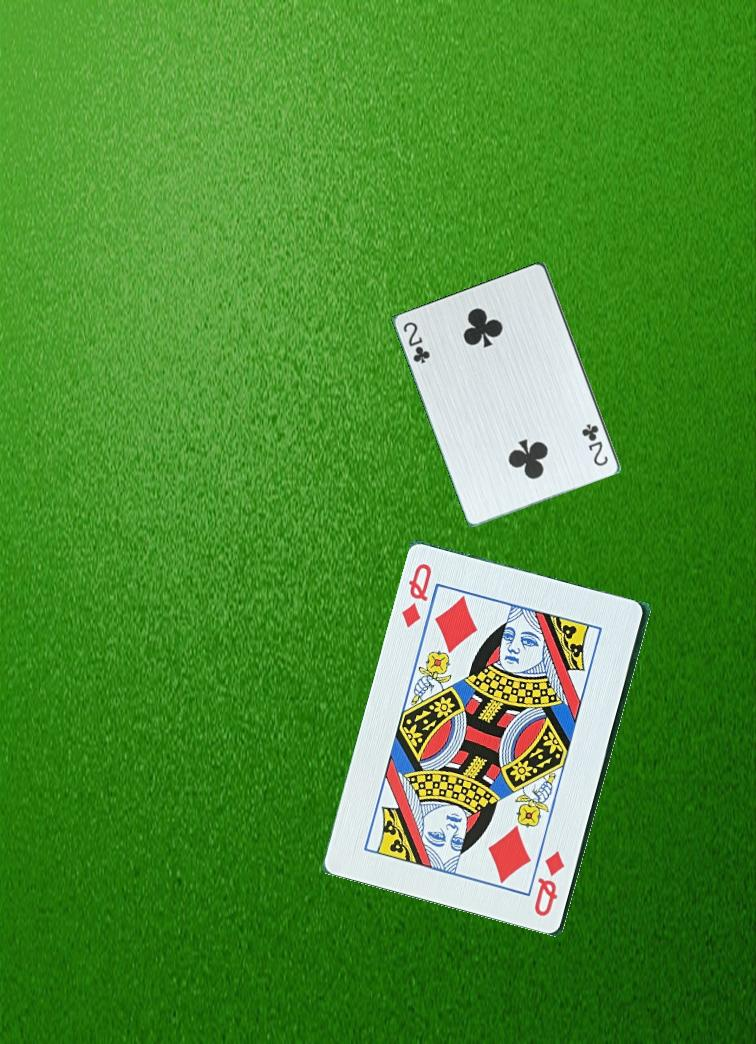2c: (400, 318, 433, 367), (580, 420, 611, 469)
qd: (530, 847, 568, 920), (398, 560, 435, 632)
